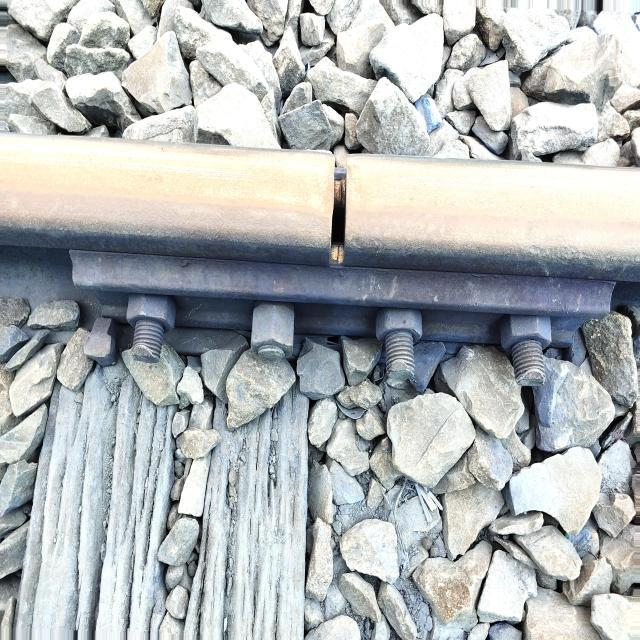Good Joint: (69, 159, 623, 366)
